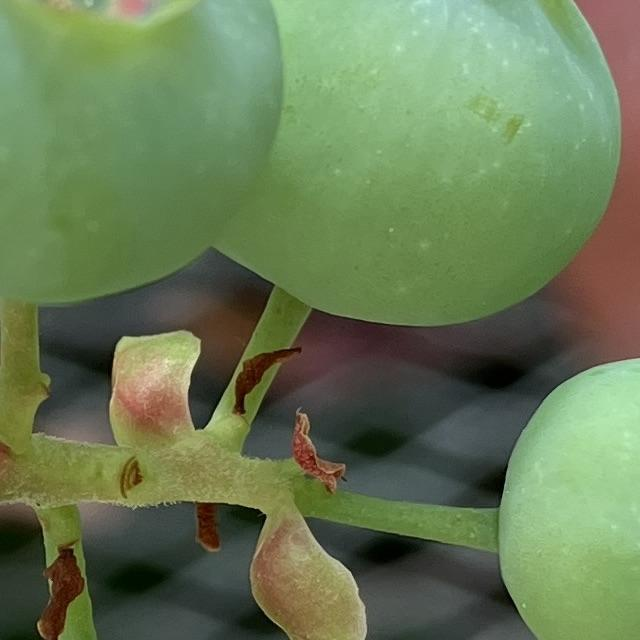Blueberries: (203, 0, 624, 328), (0, 0, 284, 307), (493, 350, 640, 640)
